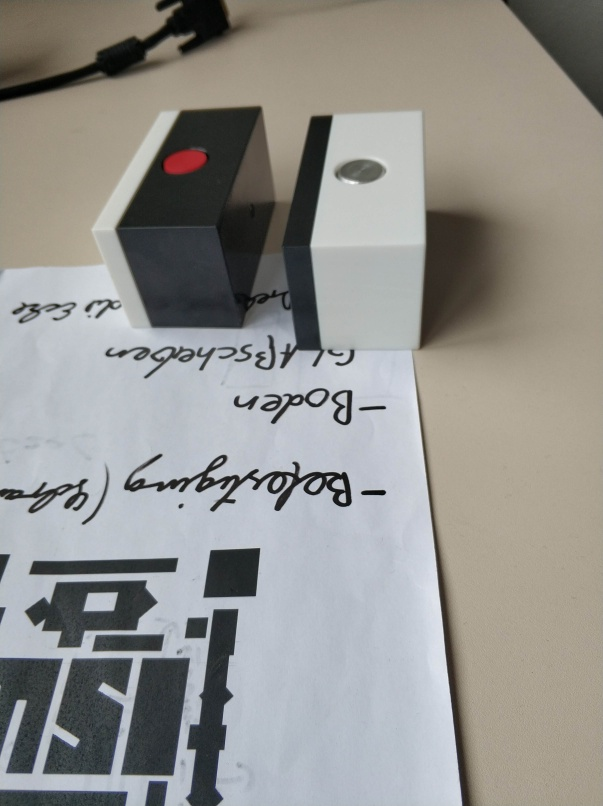black+white+silver: (283, 108, 428, 359)
white+black+red: (88, 104, 278, 332)
